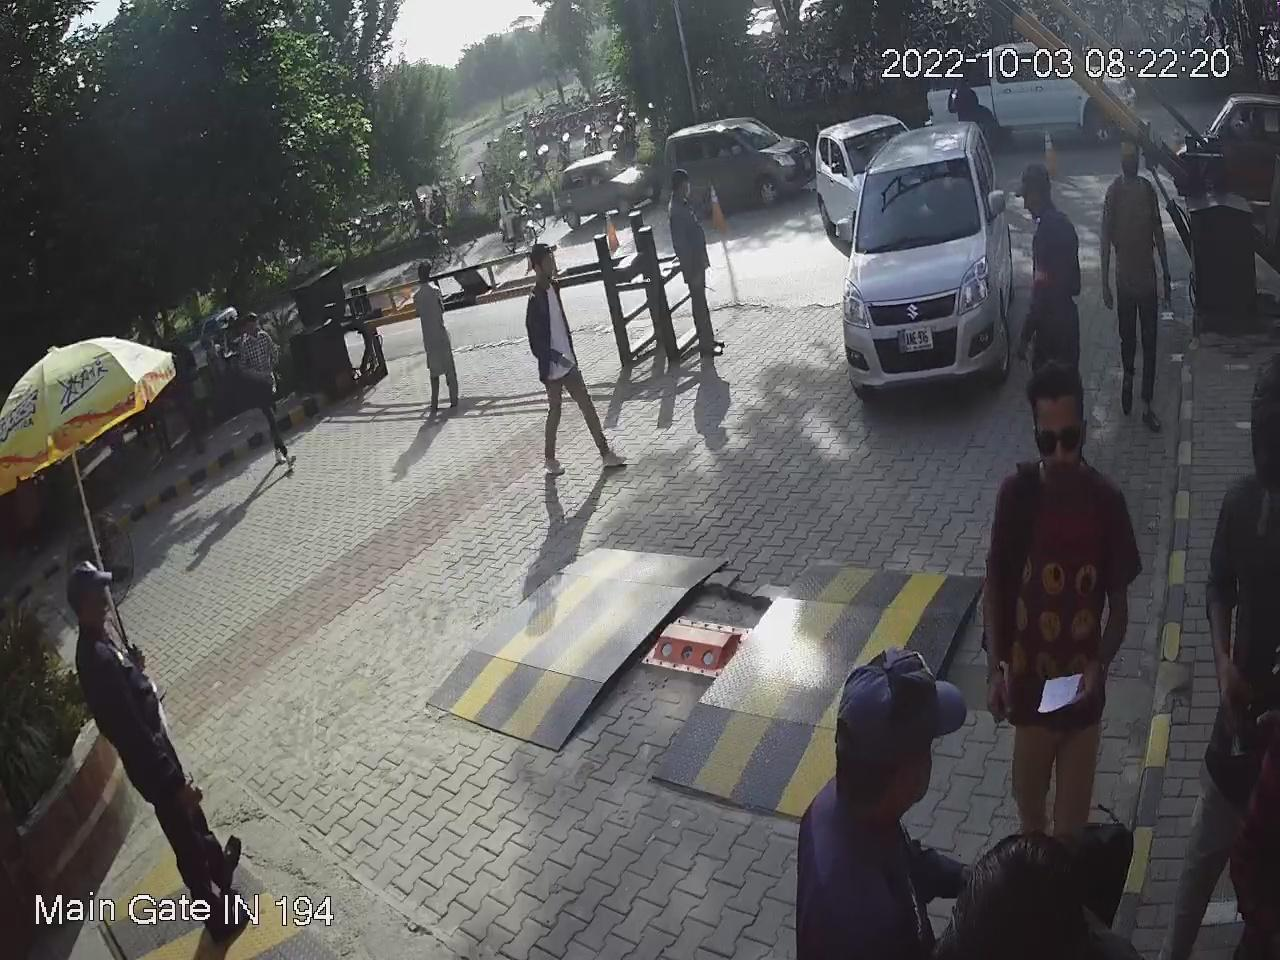windshield: (856, 155, 988, 252)
